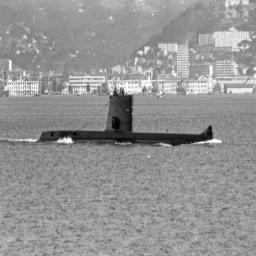submarine: (40, 91, 218, 144)
